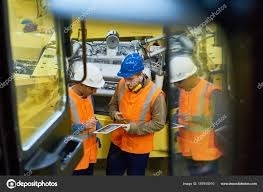helmet: (69, 61, 105, 89), (116, 52, 149, 79), (169, 56, 200, 84)
person with full safety: (106, 51, 167, 176), (168, 54, 225, 174), (59, 61, 104, 176)
safety vest: (110, 79, 158, 154), (176, 83, 221, 158), (66, 90, 100, 168)
